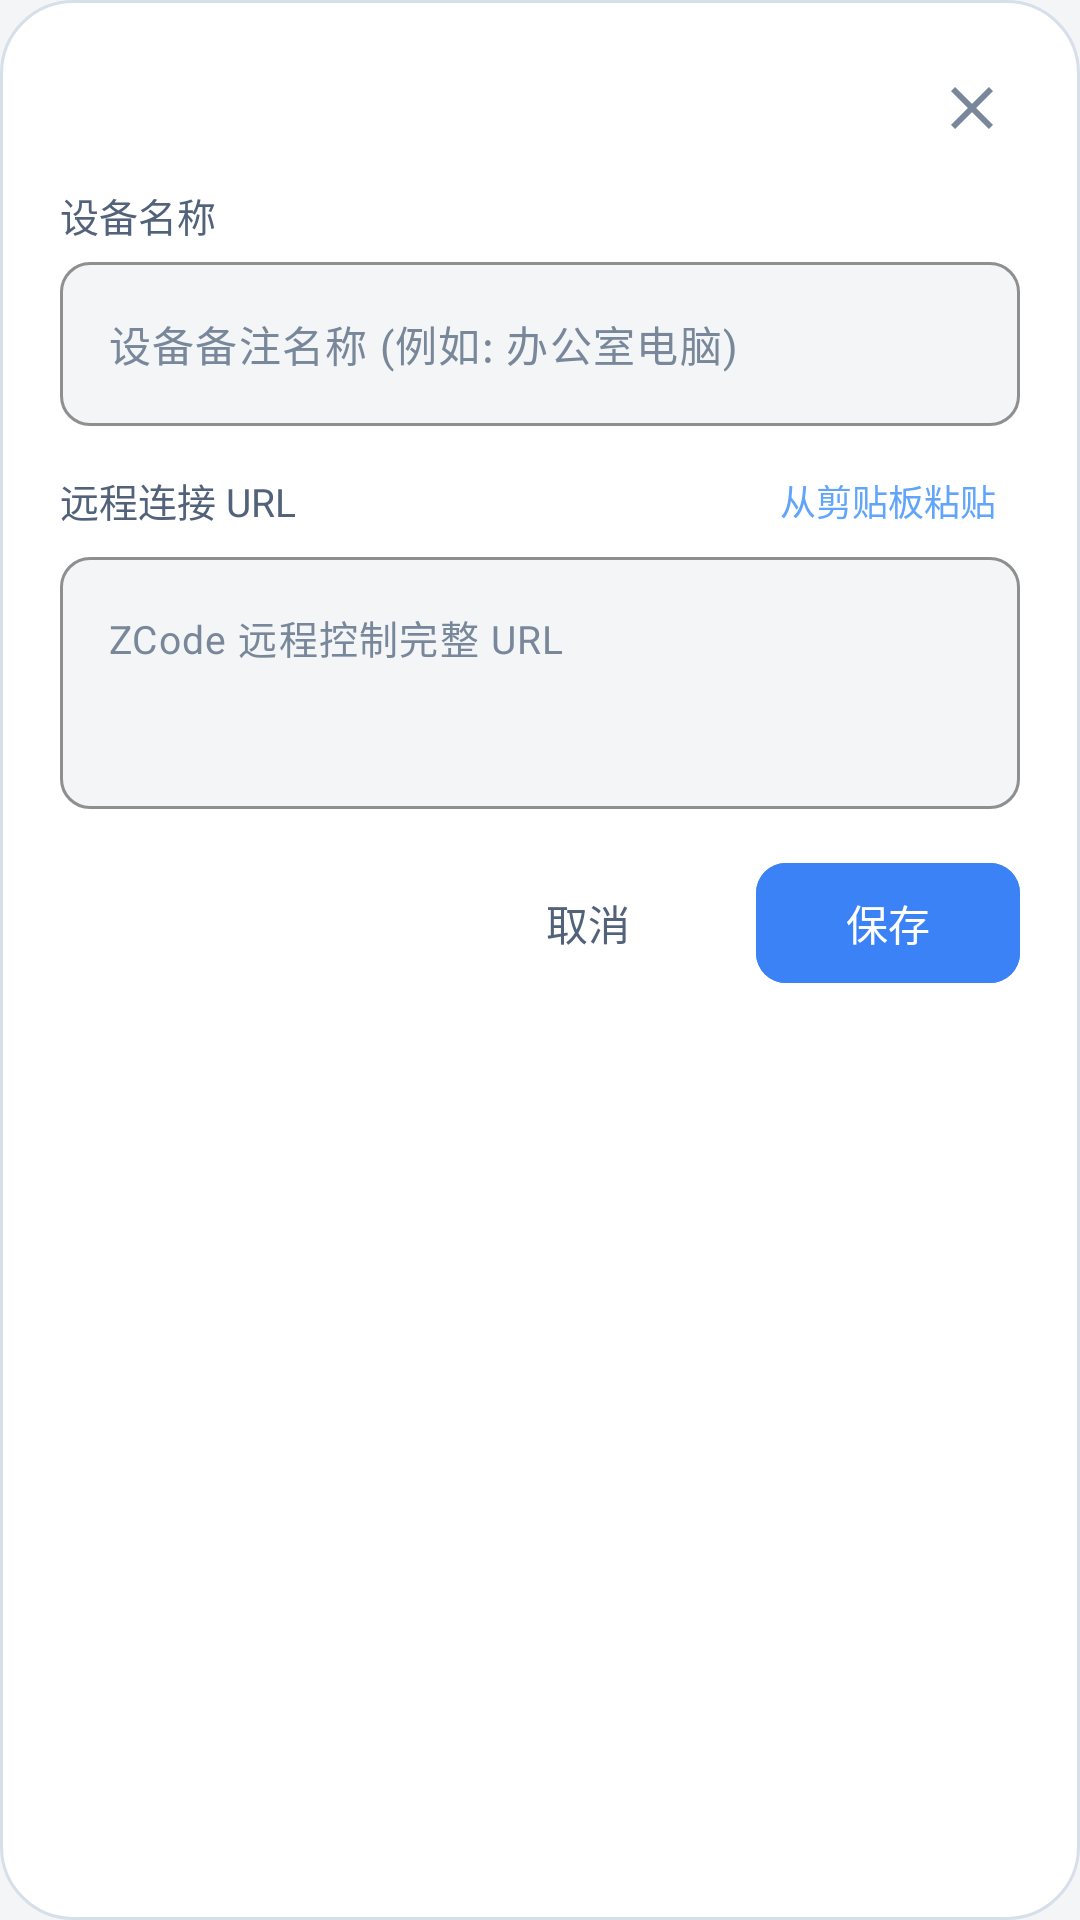

Screen size 1080 x 1920. Icon name, then its box in pixels as {"x1": x1, "y1": y1, "x2": x2, "y2": y2}:
关闭: {"x1": 951, "y1": 87, "x2": 993, "y2": 129}
